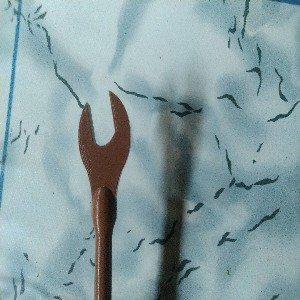spanner: (77, 90, 131, 300)
